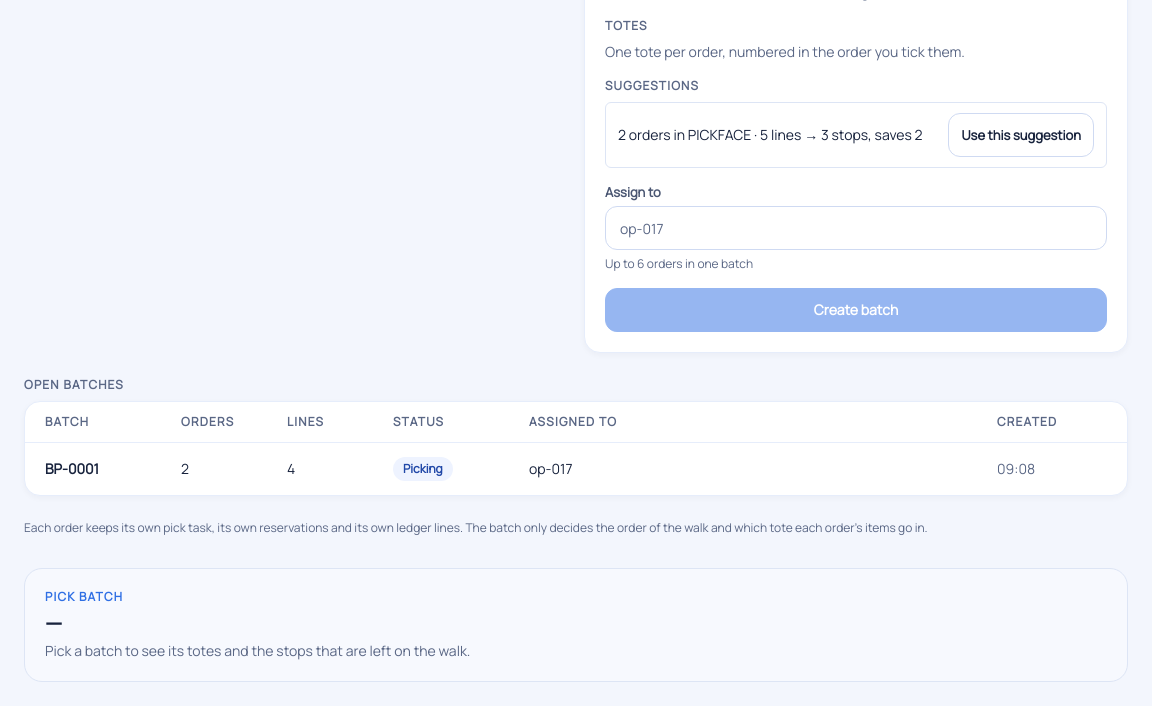
Test case: BatchPick › opens an open batch and shows its totes and the stops left
(page scrolled)
Click the text "BP-0001" at (72, 468), box [45,459,99,478]
(page scrolled)
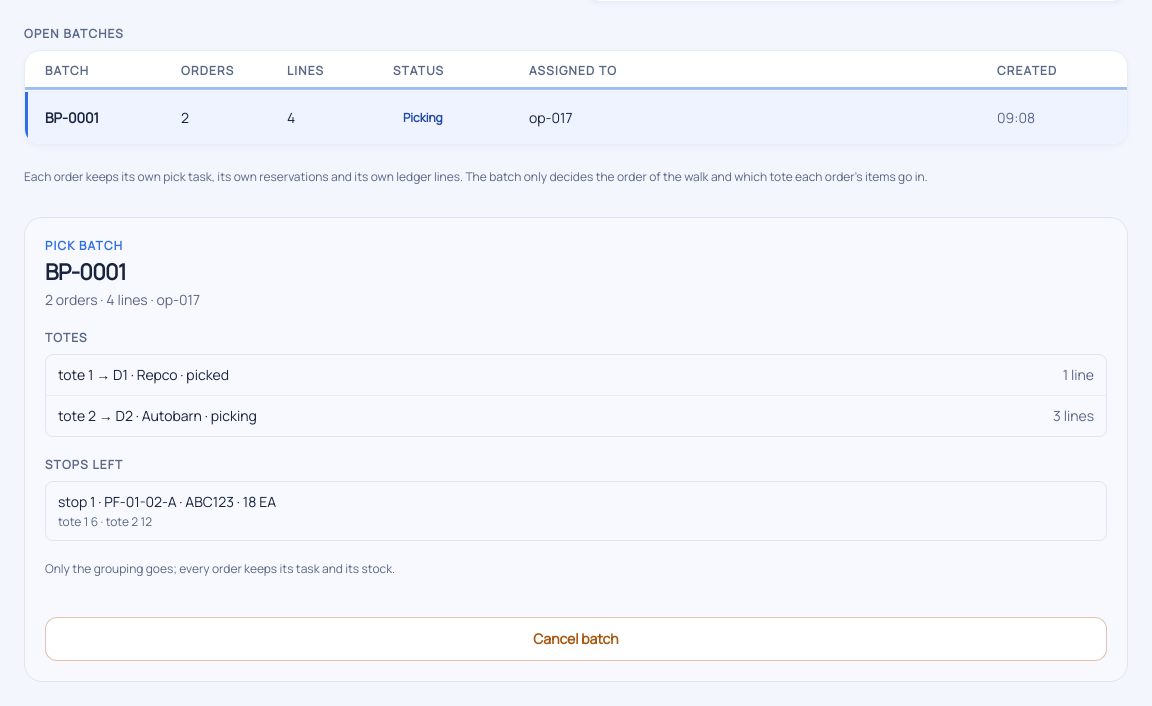
Expected: the text "tote 1 → D1 · Repco · picked" is shown, [58,365,229,385]
Expected: the text "tote 2 → D2 · Autobarn · picking" is shown, [58,406,257,426]
Expected: the text "stop 1 · PF-01-02-A · ABC123 · 18 EA" is shown, [58,492,276,511]
